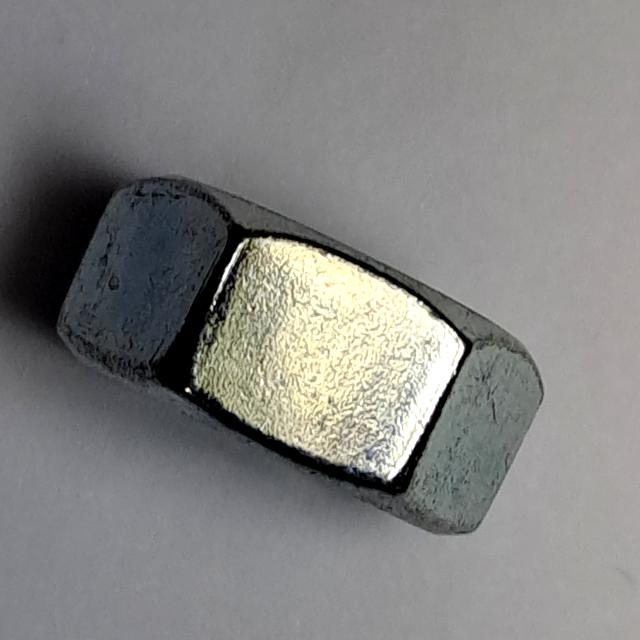Side_Excellent: (49, 164, 550, 548)
